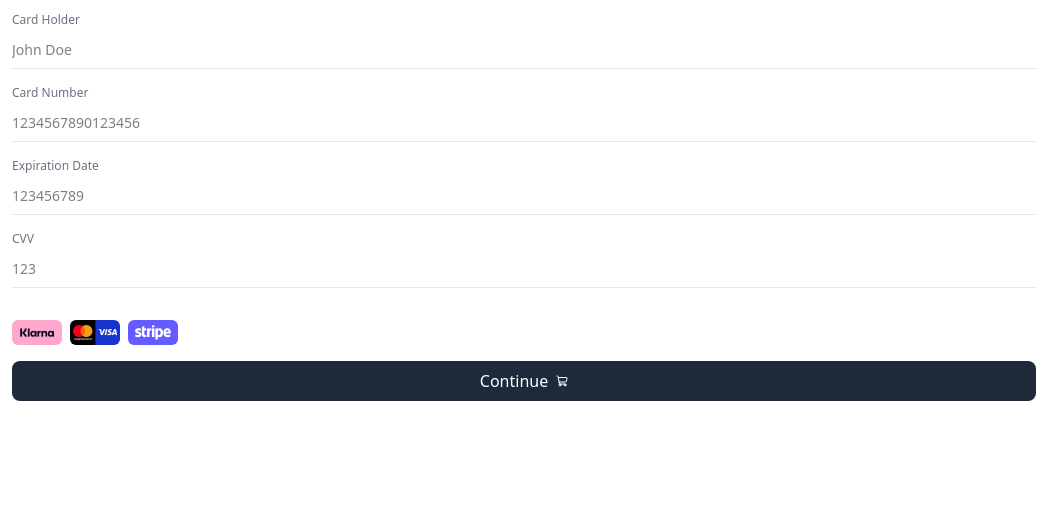
Test: PaymentForm › shows validation errors when the form is submitted empty
Click the button "Continue" at (524, 381), box [12,361,1036,401]
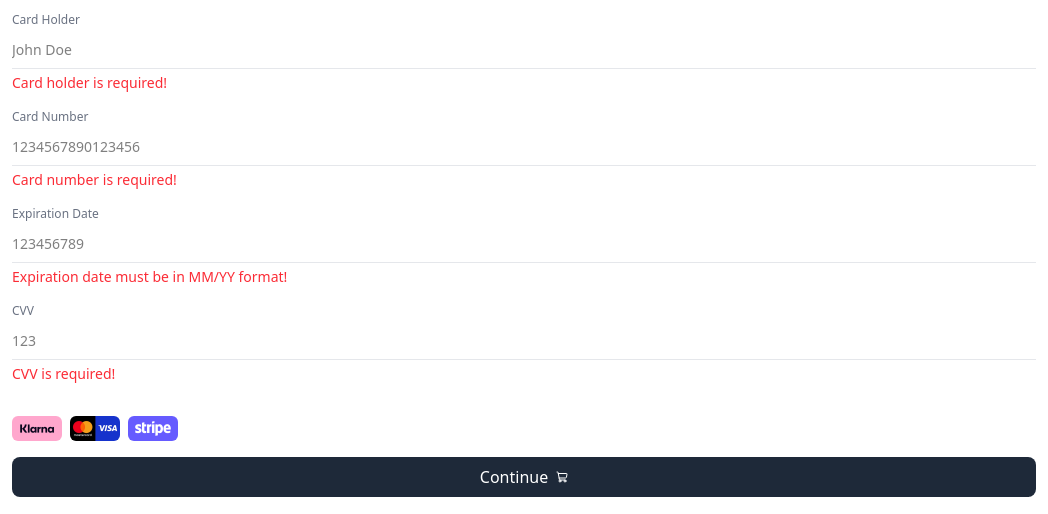
Expected: the text "Card holder is required!" is shown, [12,73,167,92]
Expected: the text "Card number is required!" is shown, [12,170,177,189]
Expected: the text "Expiration date must be in MM/YY format!" is shown, [12,267,287,286]
